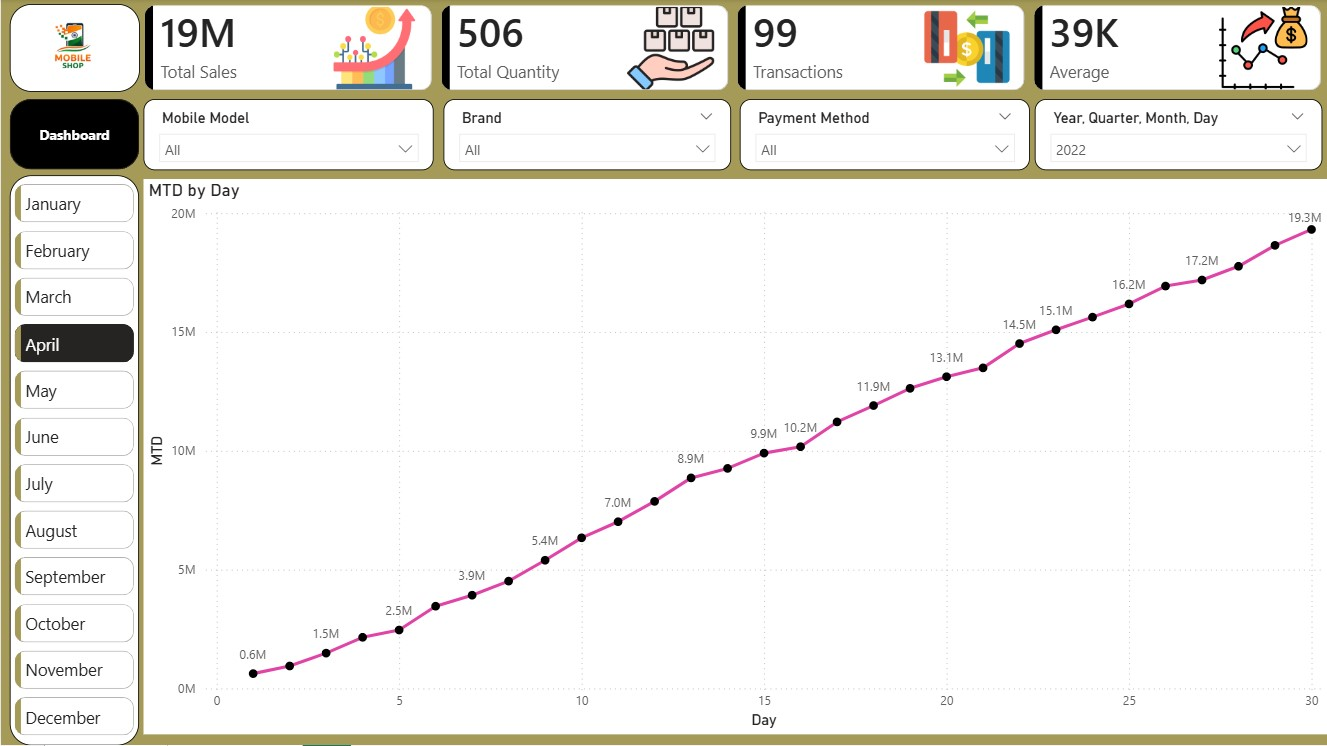

What the dashboard file says about the page in this screenshot:
{"tool":"powerbi","page":{"name":"MTD Report","canvas":[1280,720],"ordinal":1},"visuals":[{"type":"shape","box":[8.4,4.8,125.5,85],"z":0},{"type":"image","box":[15,10.3,111.2,75],"z":1000},{"type":"shape","box":[8.8,170,125,550],"z":2000},{"type":"advancedSlicerVisual","fields":{"Values":["Sales_Data.Date.Variation.Date Hierarchy.Month"]},"box":[8.8,173.8,125,546.2],"z":3000},{"type":"cardVisual","fields":{"Data":["Sales_Data.Total Sales","Sales_Data.Total Quantity","Sales_Data.Transactions","Sales_Data.Average"]},"box":[133.8,1.2,1146.2,92.5],"z":4000},{"type":"slicer","fields":{"Values":["Sales_Data.Mobile Model"]},"box":[138,96.5,280,68.8],"z":5000},{"type":"slicer","fields":{"Values":["Sales_Data.Brand"]},"box":[426.7,96.5,277.5,68.8],"z":6000},{"type":"slicer","fields":{"Values":["Sales_Data.Payment Method"]},"box":[712.5,96.5,280,68.8],"z":7000},{"type":"slicer","fields":{"Values":["Sales_Data.Date.Variation.Date Hierarchy.Year","Sales_Data.Date.Variation.Date Hierarchy.Quarter","Sales_Data.Date.Variation.Date Hierarchy.Month","Sales_Data.Date.Variation.Date Hierarchy.Day"]},"box":[997.5,96.5,277.5,68.8],"z":8000},{"type":"lineChart","fields":{"Category":["Sales_Data.Date.Variation.Date Hierarchy.Year","Sales_Data.Date.Variation.Date Hierarchy.Quarter","Sales_Data.Date.Variation.Date Hierarchy.Month","Sales_Data.Date.Variation.Date Hierarchy.Day"],"Y":["Sales_Data.MTD"]},"box":[137.5,173.7,1142.5,535.7],"z":9000},{"type":"pageNavigator","box":[8.4,96.5,125.5,68.8],"z":10000}]}

Visuals, with their boxes in screenshot pixels (x1, y1, x2, y2), scaled from the page's 1280x720 canvas onto the 1327x746 screenshot:
shape: <box>9,5,139,93</box>
image: <box>16,11,131,88</box>
shape: <box>9,176,139,745</box>
advancedSlicerVisual - Sales_Data.Date.Variation.Date Hierarchy.Month: <box>9,180,139,745</box>
cardVisual - Sales_Data.Total Sales x Sales_Data.Total Quantity: <box>139,1,1326,97</box>
slicer - Sales_Data.Mobile Model: <box>143,100,433,171</box>
slicer - Sales_Data.Brand: <box>442,100,730,171</box>
slicer - Sales_Data.Payment Method: <box>739,100,1029,171</box>
slicer - Sales_Data.Date.Variation.Date Hierarchy.Year x Sales_Data.Date.Variation.Date Hierarchy.Quarter: <box>1034,100,1322,171</box>
lineChart - Sales_Data.Date.Variation.Date Hierarchy.Year x Sales_Data.Date.Variation.Date Hierarchy.Quarter: <box>143,180,1326,735</box>
pageNavigator: <box>9,100,139,171</box>
